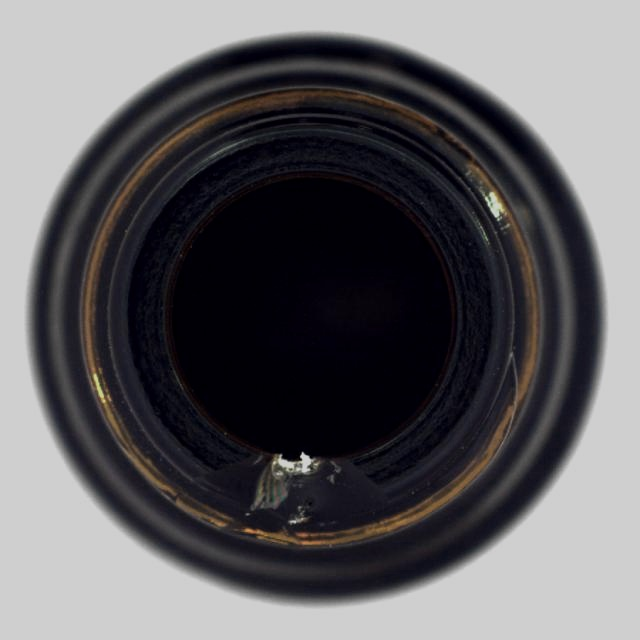bad-broken_small: (22, 30, 608, 608)
